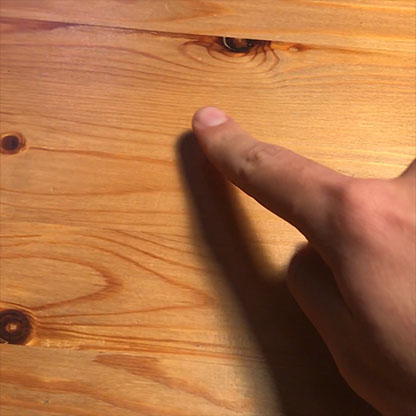fingertip: (186, 100, 238, 139)
